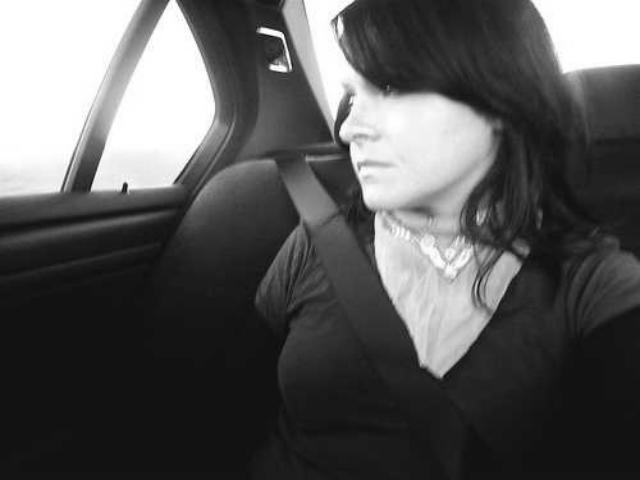Seatbelt: (272, 150, 426, 386)
